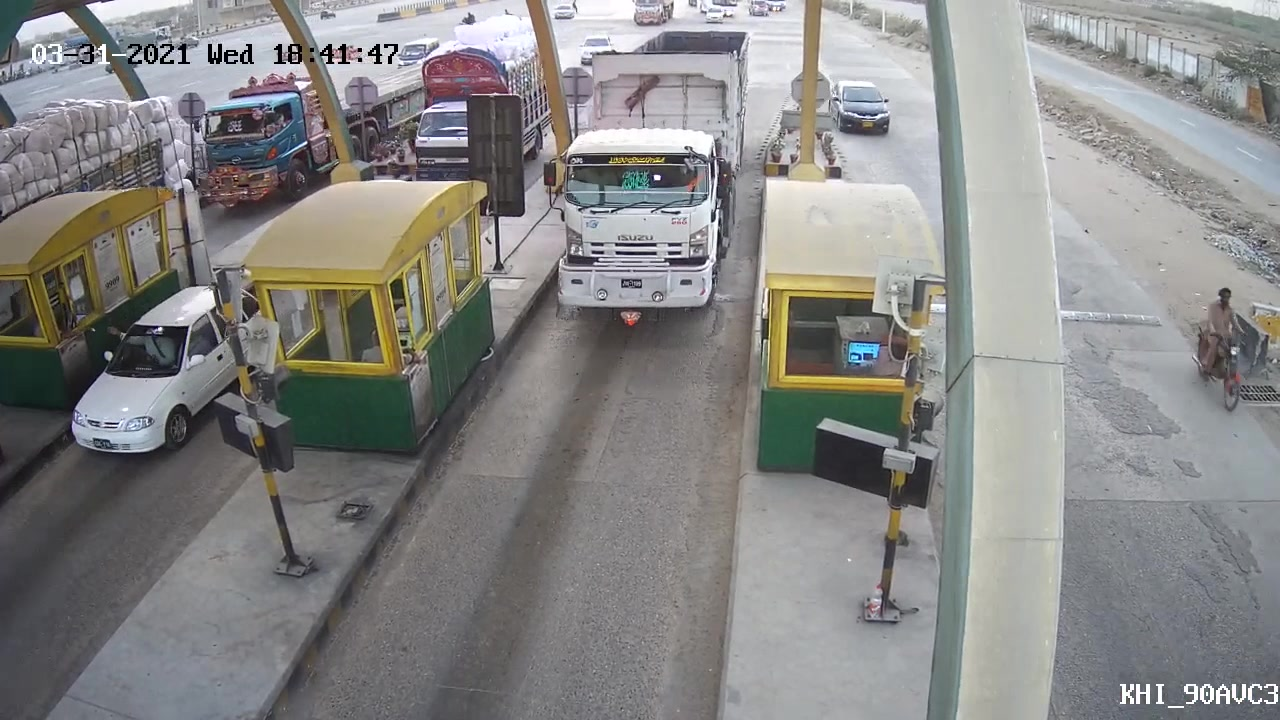F6: (543, 25, 761, 328)
